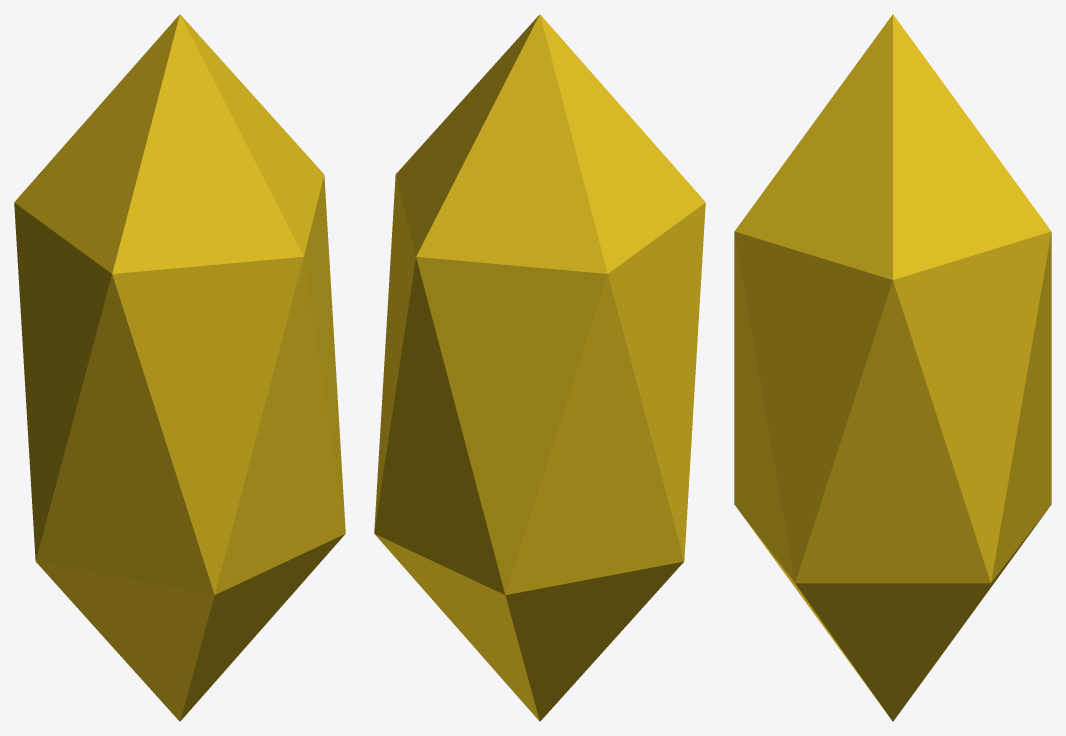
The model's file is collect1.fbx.
3 views of the same model, side by side, from view 1: azimuth 30°, elevation 25°; view 2: azimuth 150°, elevation 25°; view 3: azimuth 270°, elevation 25° (orthographic).
Parts seen in each view (by area): view 1: Icosphere; view 2: Icosphere; view 3: Icosphere.
Boxes of the visible parts, left/top/right/bottom form: Icosphere: left=14, top=14, right=345, bottom=721; Icosphere: left=374, top=14, right=705, bottom=721; Icosphere: left=734, top=14, right=1051, bottom=721.
Bounding box in the file's own units: 80.93 × 190 × 76.96.
